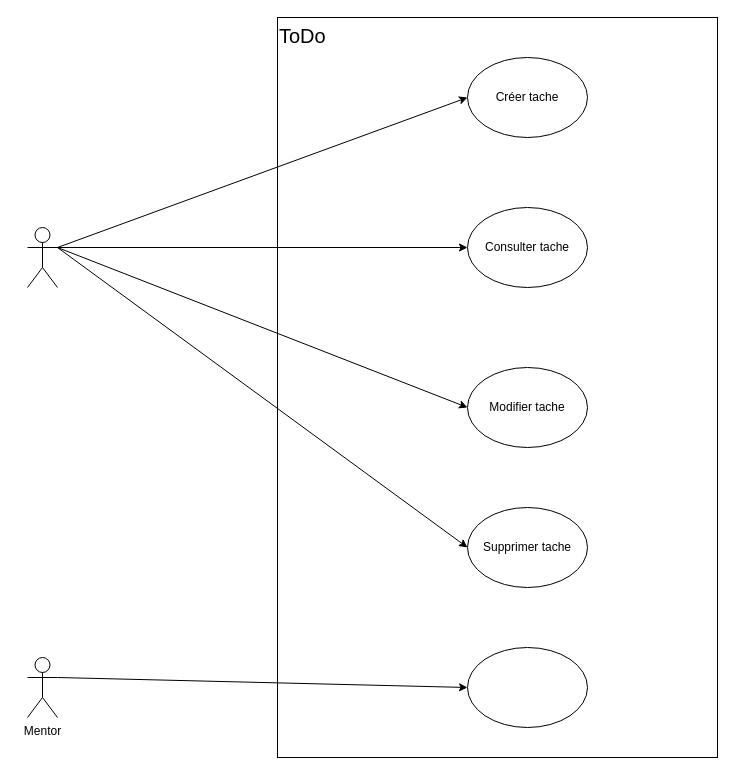
Image size: 735x775. Some labels were removed from this diagram. The centre of each missing label's shape, as x and y in pixels:
"Assigner tache" goes at [527,687].
"Etudiant / Mentor" goes at [42,257].
